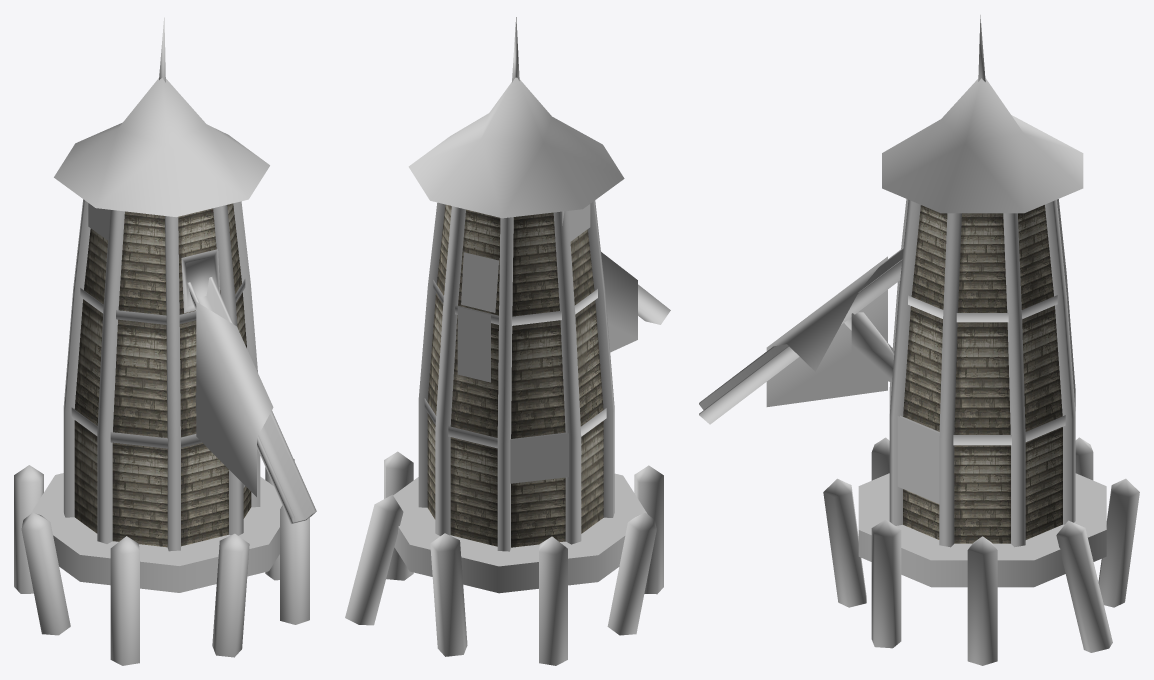
Rendered from westfallgrainsilo01.obj.
3 views of the same model, side by side, from view 1: azimuth 30°, elevation 25°; view 2: azimuth 150°, elevation 25°; view 3: azimuth 270°, elevation 25° (orthographic).
Visible parts, largest first — view 1: WestfallGrainSilo01; view 2: WestfallGrainSilo01; view 3: WestfallGrainSilo01.
Boxes of the visible parts, box(x1,y1,x2,y2) form: WestfallGrainSilo01: box(14, 17, 316, 665); WestfallGrainSilo01: box(345, 17, 670, 665); WestfallGrainSilo01: box(699, 15, 1139, 665).
Size of the model in its own units: 13.91 by 28.77 by 19.5.
